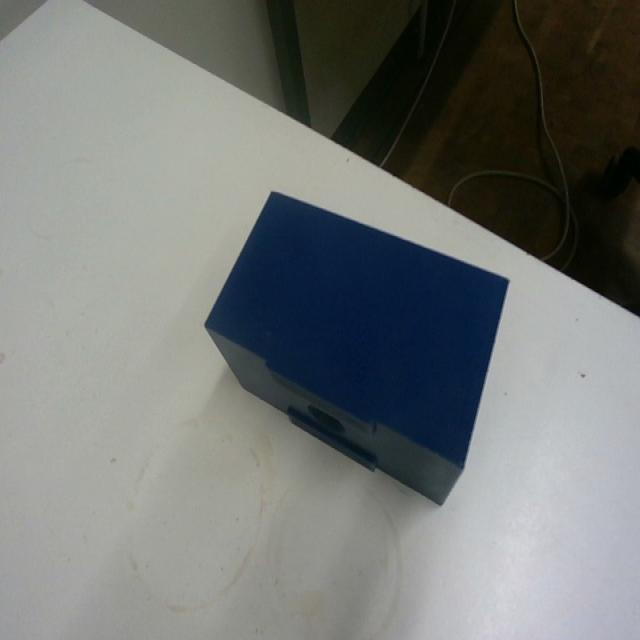Blue Cuboid: (202, 185, 511, 507)
